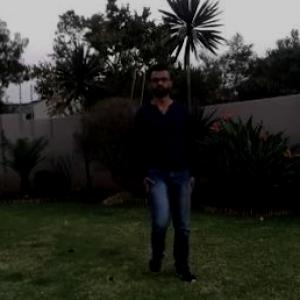follow: (140, 70, 198, 265)
